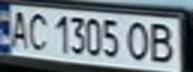0: (84, 15, 103, 57)
1: (48, 12, 69, 54)
3: (66, 13, 87, 55)
5: (100, 16, 124, 60)
A: (3, 7, 33, 51)
B: (145, 19, 181, 64)
C: (24, 10, 51, 51)
O: (124, 19, 154, 62)
